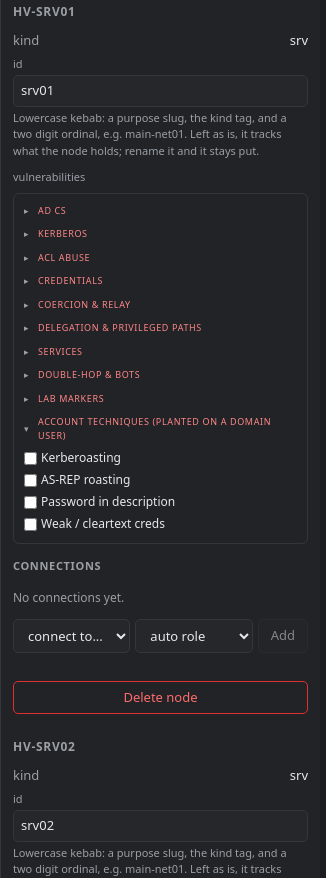
Test: account techniques on the host vuln picker › checking kerberoasting on a domain-joined host plants a marked user
What coordinates should you click on to do the following:
click the checkbox labelled "Kerberoasting"
I would click on:
 (30, 458)
Its box is [24,452,37,464].
(page scrolled)
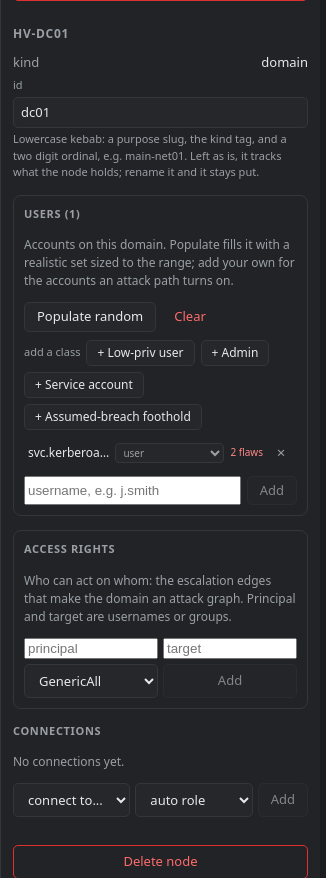
Now the button "svc.kerberoast" is shown, box [28,444,109,462]
Now the text "2 flaws" is shown, box [230,445,263,460]
